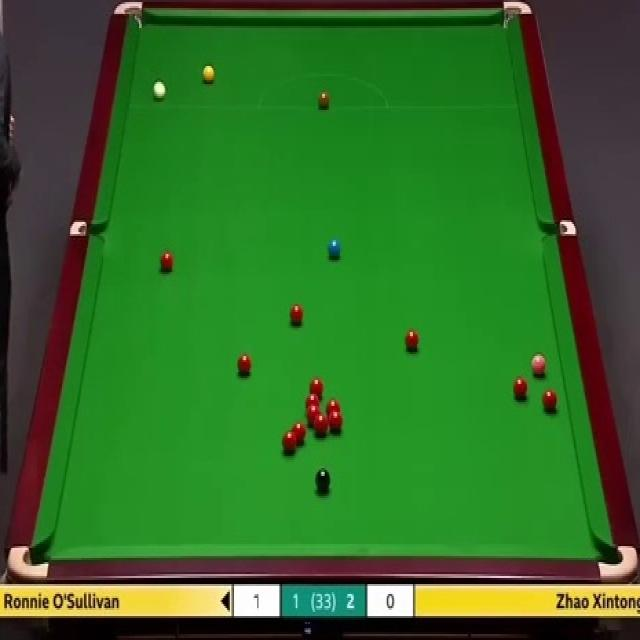pocket: (595, 540, 638, 583), (6, 543, 49, 580), (109, 0, 144, 32), (502, 0, 532, 31), (540, 217, 575, 235), (70, 220, 105, 237)
